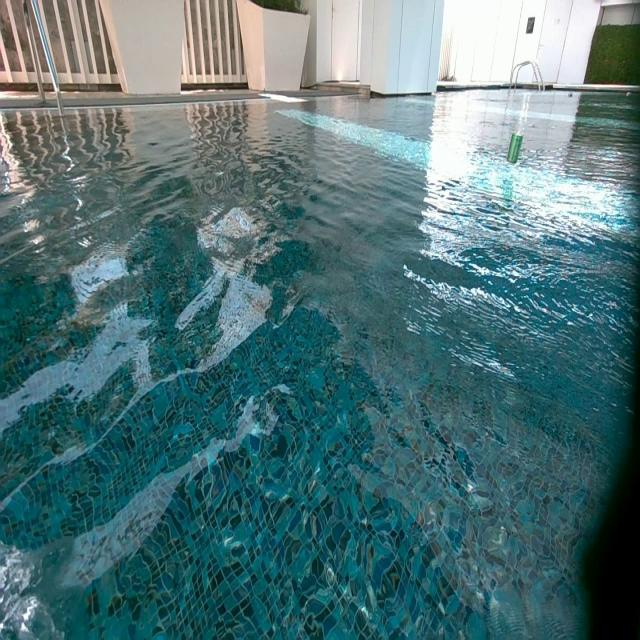Cans: (507, 133, 522, 163)
